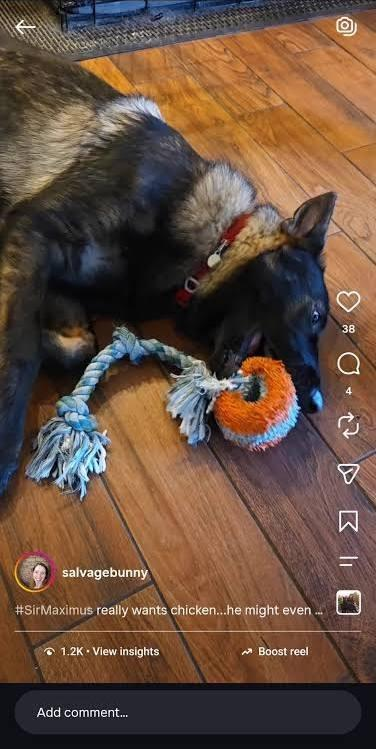adult_dog: (0, 29, 339, 492)
